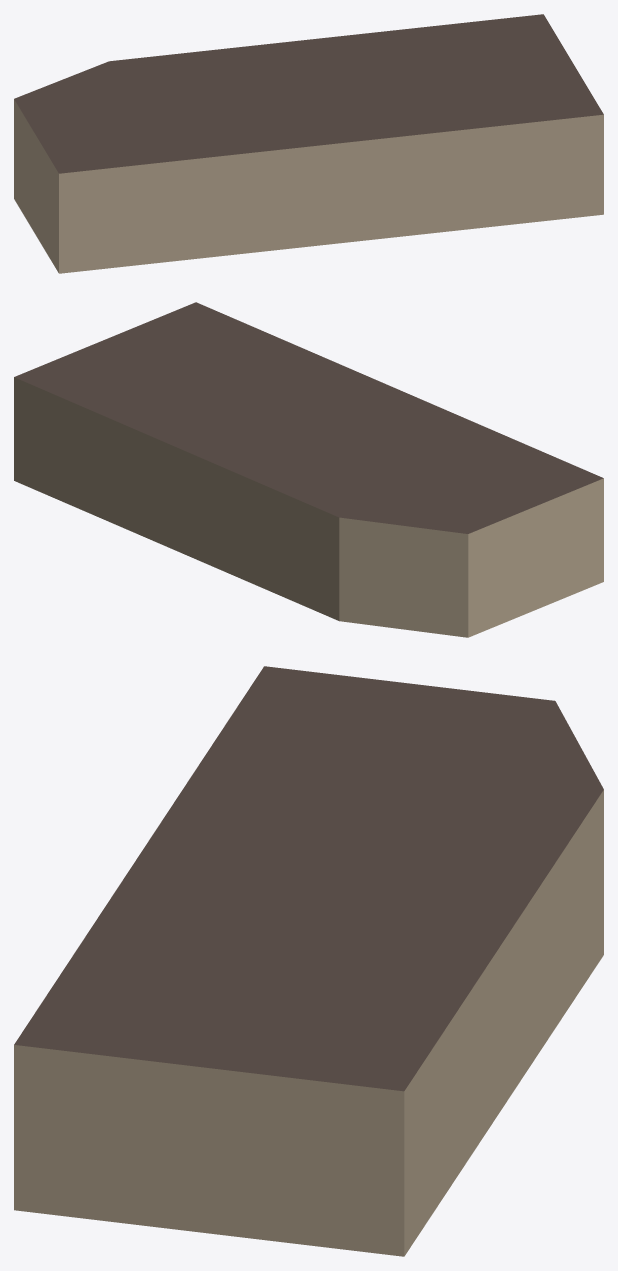
3 renders of one model, top to bottom at view 1: azimuth 30°, elevation 25°; view 2: azimuth 150°, elevation 25°; view 3: azimuth 270°, elevation 25°, orthographic. The views are drawn at different scales.
Parts seen in each view (by area): view 1: HP-w1481649278; view 2: HP-w1481649278; view 3: HP-w1481649278.
Part boxes in pixels (x1,y1,x2,y2): HP-w1481649278: (14, 14, 603, 273); HP-w1481649278: (14, 302, 603, 637); HP-w1481649278: (14, 666, 603, 1256).
Size of the model in its own units: 49.61 by 9 by 29.09.
